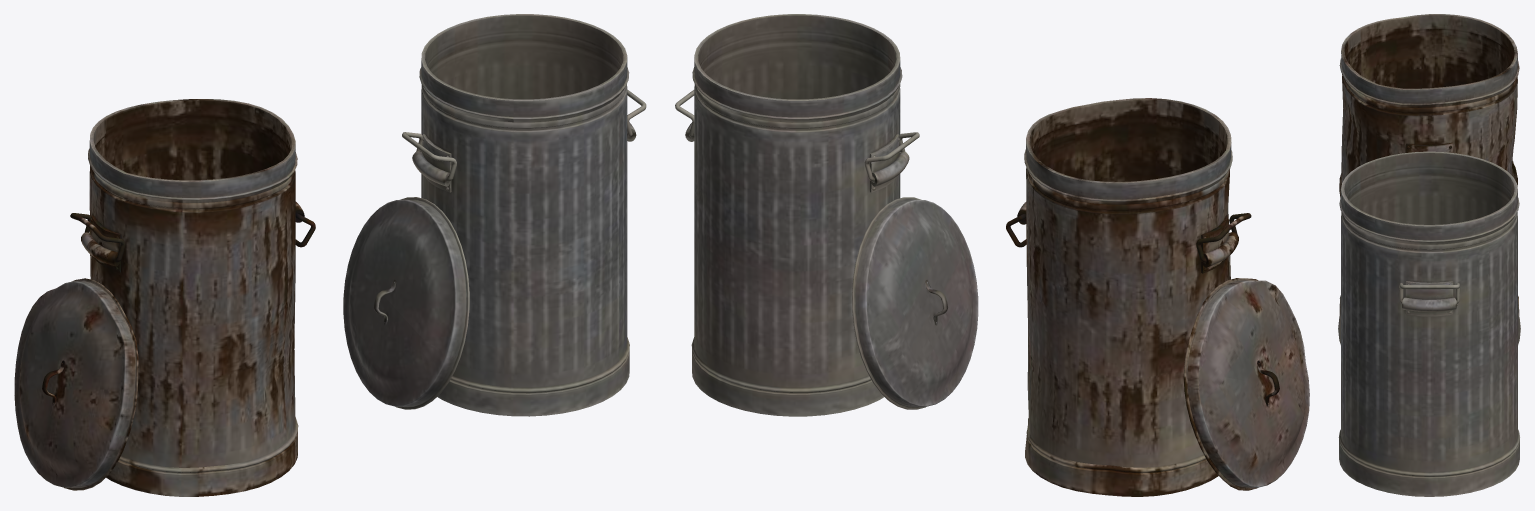
Rendered from ph_metal_trash_can.glb.
The picture shows the model from 3 angles, left to right: view 1: azimuth 30°, elevation 25°; view 2: azimuth 150°, elevation 25°; view 3: azimuth 270°, elevation 25°; orthographic projection. The views are drawn at different scales.
Parts seen in each view (by area): view 1: metal_trash_can_handle_left; view 2: metal_trash_can_handle_left; view 3: metal_trash_can_handle_left.
Part boxes in pixels (x1,y1,x2,y2): metal_trash_can_handle_left: [14, 14, 646, 496]; metal_trash_can_handle_left: [675, 14, 1309, 496]; metal_trash_can_handle_left: [1338, 14, 1520, 496].
Bounding box in the file's own units: 1.78 × 0.9062 × 0.5563.
3 materials, 3 textured.
